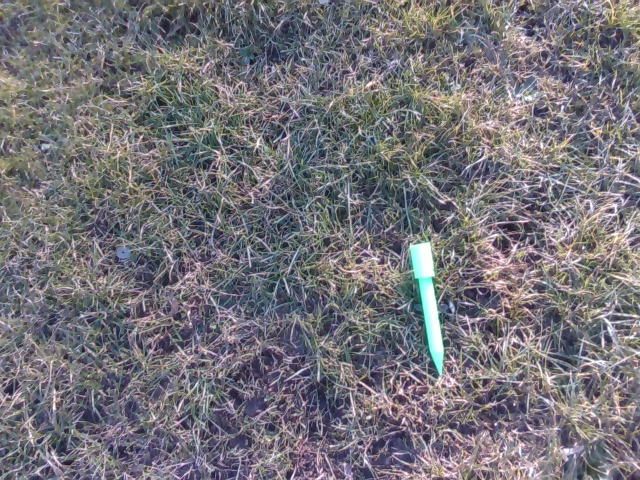Probe: (405, 234, 445, 380)
